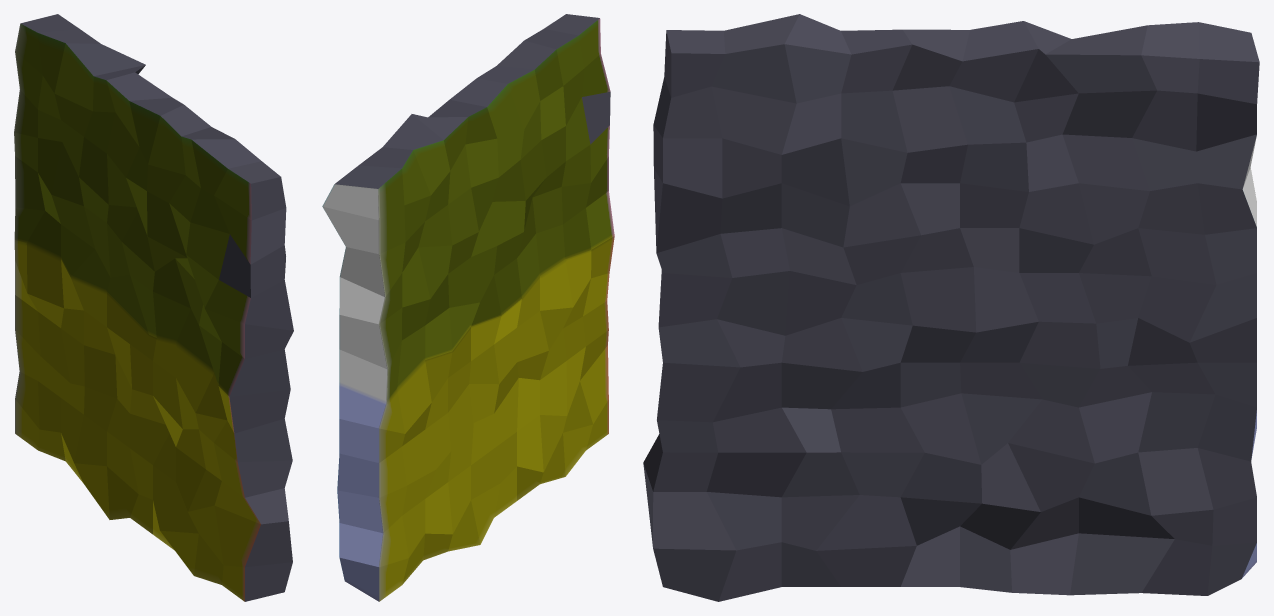
The model's file is paredes.fbx.
The picture shows the model from 3 angles, left to right: view 1: azimuth 30°, elevation 25°; view 2: azimuth 150°, elevation 25°; view 3: azimuth 270°, elevation 25°; orthographic projection. The views are drawn at different scales.
Visible parts, largest first — view 1: Cube; view 2: Cube; view 3: Cube.
Part boxes in pixels (left/top/right/bottom): Cube: left=14, top=14, right=293, bottom=601; Cube: left=322, top=14, right=614, bottom=601; Cube: left=643, top=14, right=1259, bottom=601.
Bounding box in the file's own units: 195 × 1050 × 1037.
Materials: 1 (1 with a texture image).
